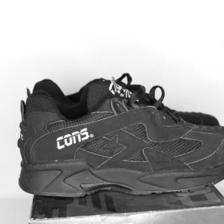Hand: (135, 23, 198, 218), (22, 15, 64, 196), (96, 33, 129, 195)
